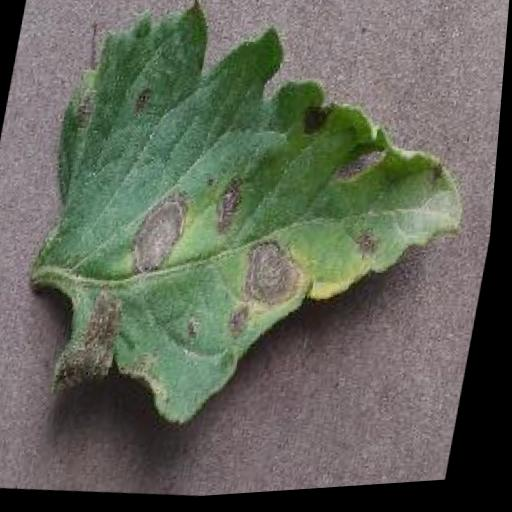Early Blight: (2, 0, 504, 470)
